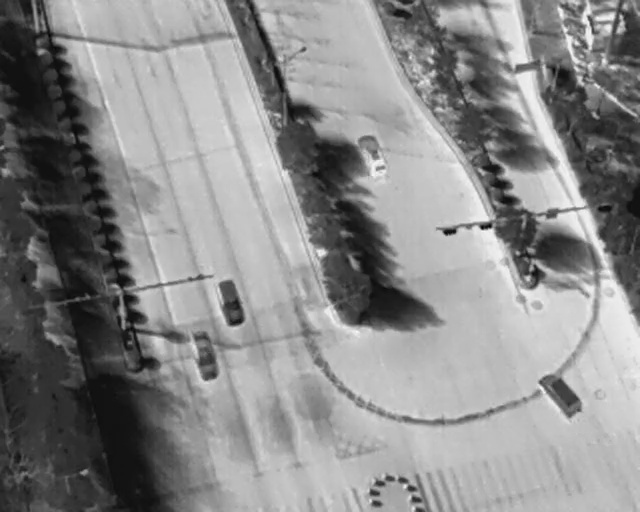Car: (535, 364, 586, 421), (188, 327, 221, 383), (213, 276, 248, 328), (355, 129, 391, 176)
